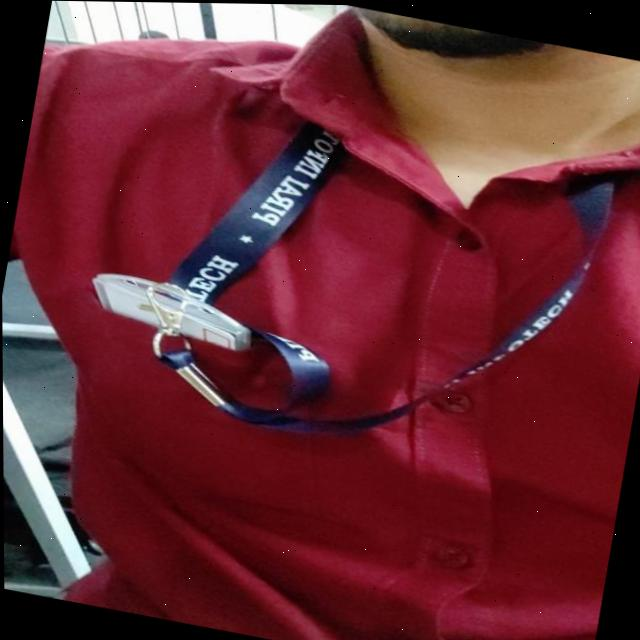id_card: (64, 80, 632, 510)
